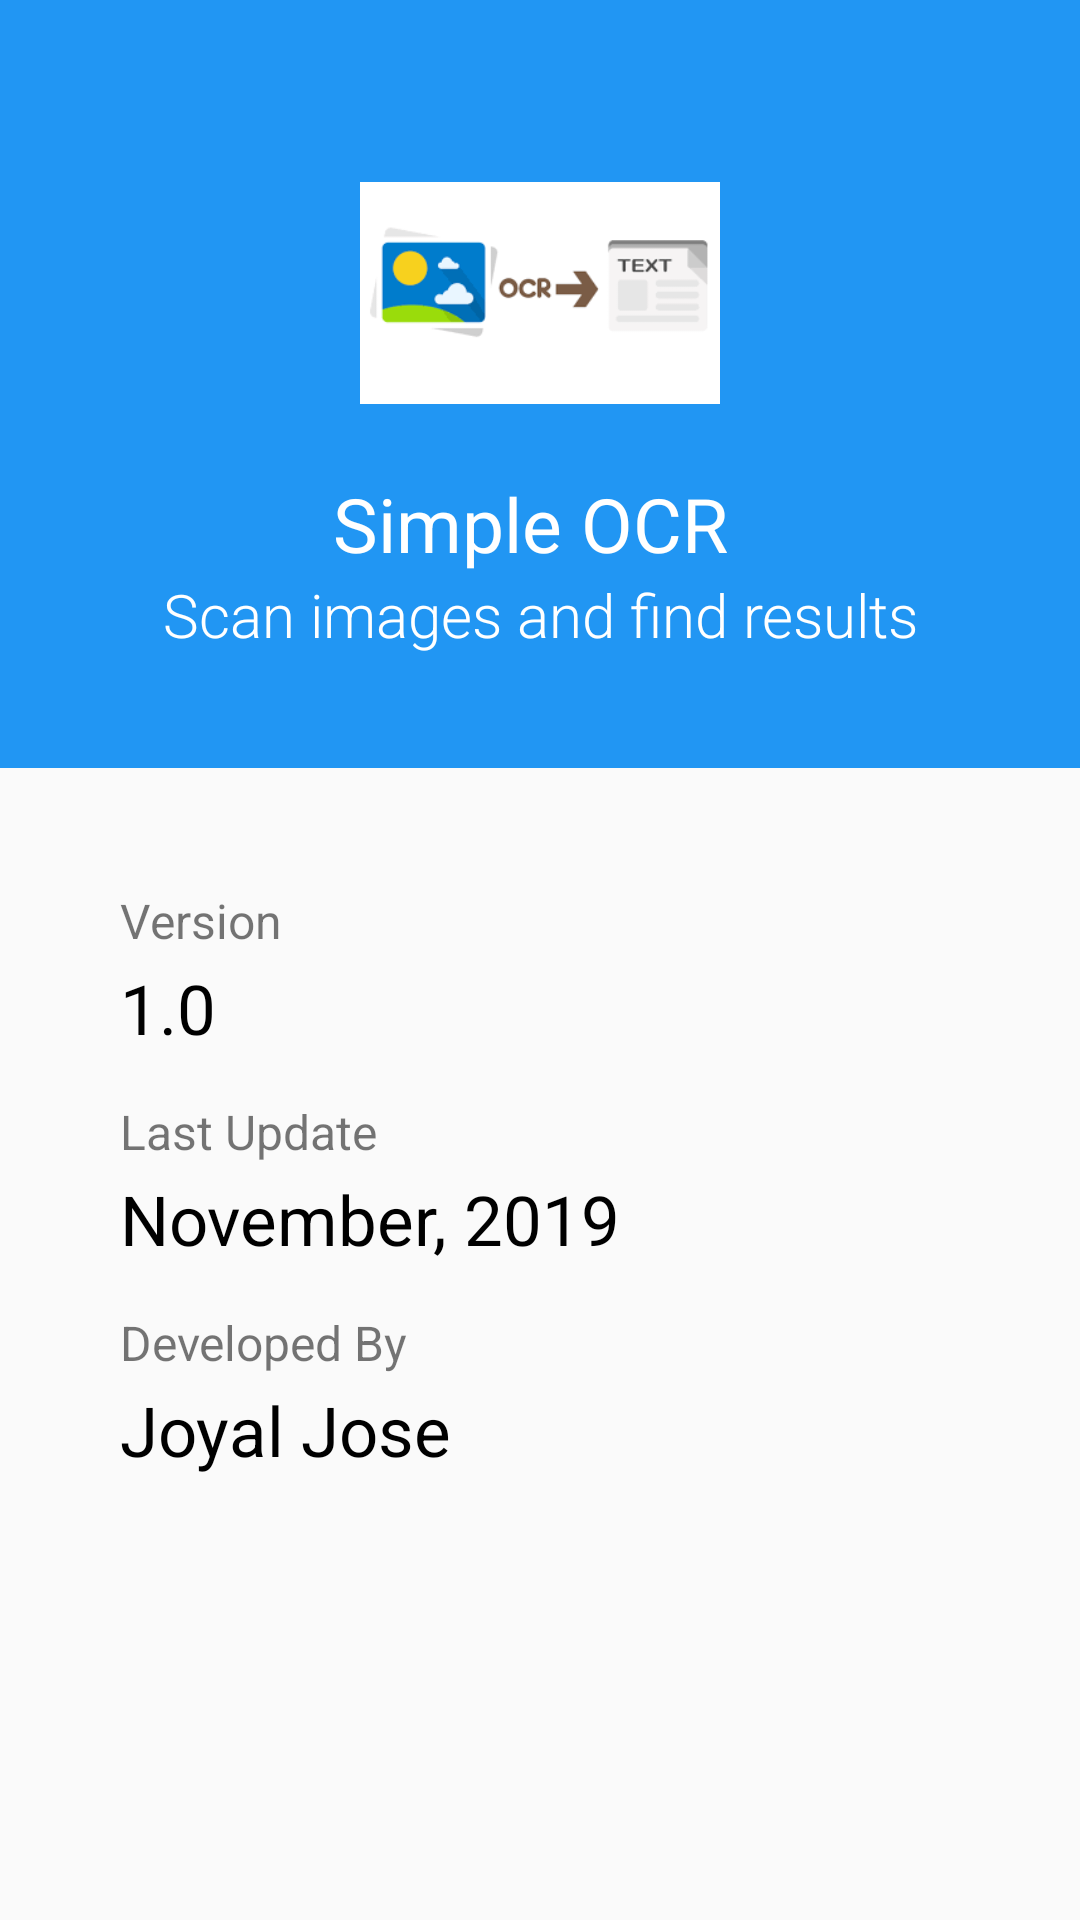

Icons on this 1080×1920 Android screen, each with the point to tap as [x,y]:
ocr loading: [540,293]
